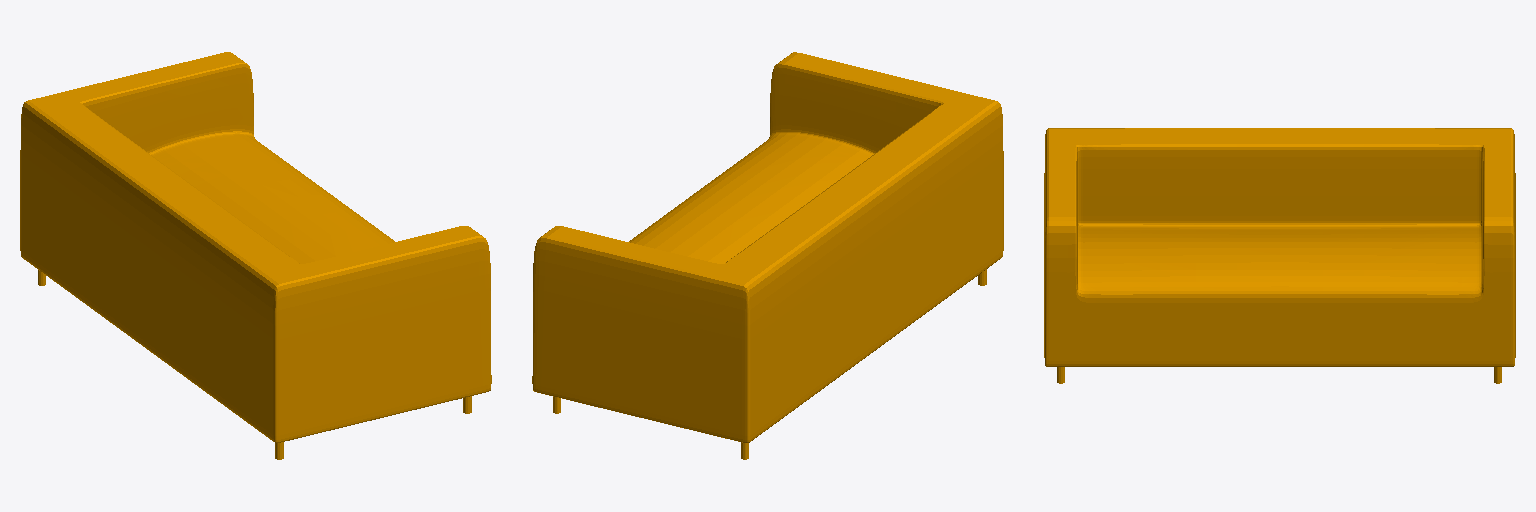
robot.urdf — vMEXU3zZ:
<?xml version='1.0' encoding='us-ascii'?>
<robot name="vMEXU3zZ">
   <link name="base_link">
      <visual>
         <origin xyz="0.0 0.0 0.0" />
         <geometry>
            <mesh filename="shape\visual\sofa-rdmsoc-0.obj" />
         </geometry>
      </visual>
      <collision>
         <origin xyz="0.0 0.0 0.0" />
         <geometry>
            <mesh filename="shape\collision\sofa-rdmsoc-0.obj" />
         </geometry>
      </collision>
   </link>
</robot>

--- Render facts (derived) ---
3 views of the same robot in one strip: view 1: azimuth 30°, elevation 25°; view 2: azimuth 150°, elevation 25°; view 3: azimuth 270°, elevation 25° (orthographic).
Robot: vMEXU3zZ — 1 links, 0 joints (none); root link base_link; default pose: every joint at zero.
Visible links, largest first — view 1: base_link; view 2: base_link; view 3: base_link.
Boxes of the visible links, x1=… form: base_link: x1=20, y1=52, x2=491, y2=459; base_link: x1=532, y1=52, x2=1003, y2=459; base_link: x1=1044, y1=128, x2=1515, y2=383.
Bounding box of the posed robot: 0.8786 × 1.79 × 0.6968 m (x, y, z).
Meshes: 1 distinct files referenced, 1 mesh visuals loaded (1 OBJ).